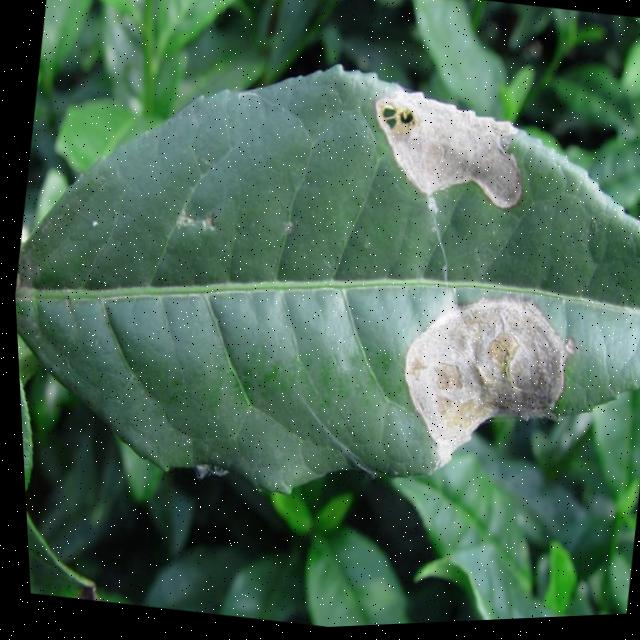Tea cloud leaf blight: (390, 270, 590, 479), (358, 75, 547, 248)
